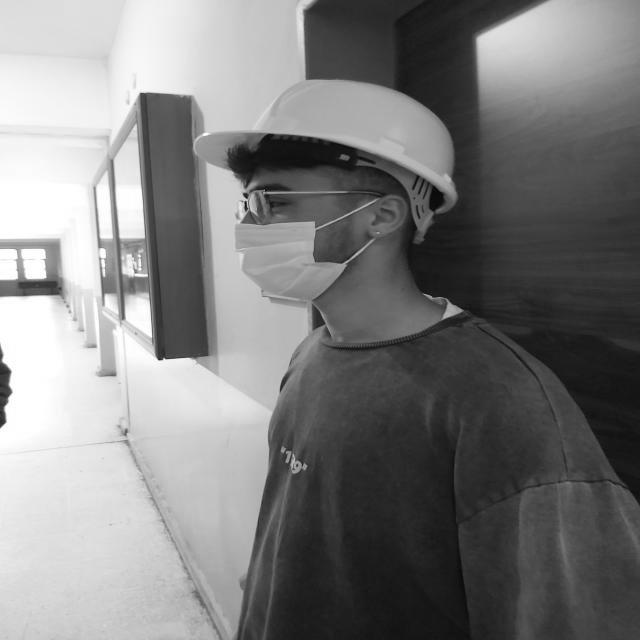construction helmet: (193, 80, 458, 236)
